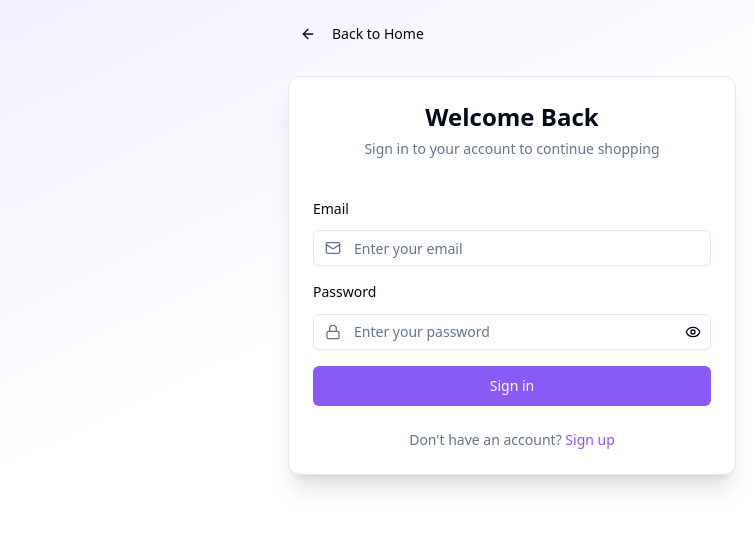
Test case: RegisterForm › shows error message when login fails
Note: Use credentials that will trigger error
Type "wrong@example.com" into the field with placeholder "Enter your email" at (512, 248), box top-left (313, 230), bottom-right (711, 266)
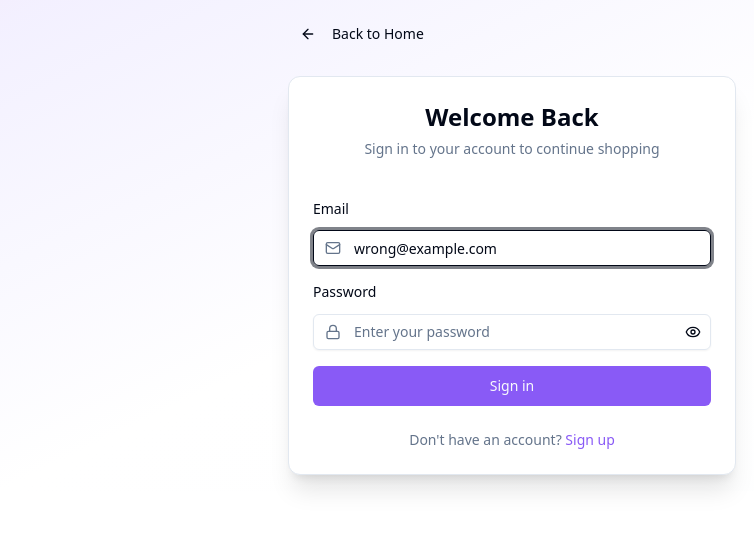
Type "password123" into the password field with placeholder "Enter your password" at (512, 332), box top-left (313, 314), bottom-right (711, 350)
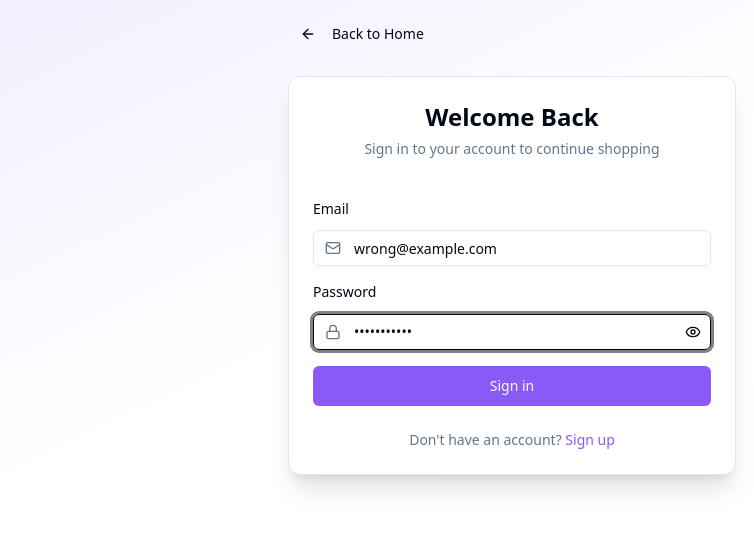
Note: Submit form
Click the button "Sign in" at (512, 386), box top-left (313, 366), bottom-right (711, 406)
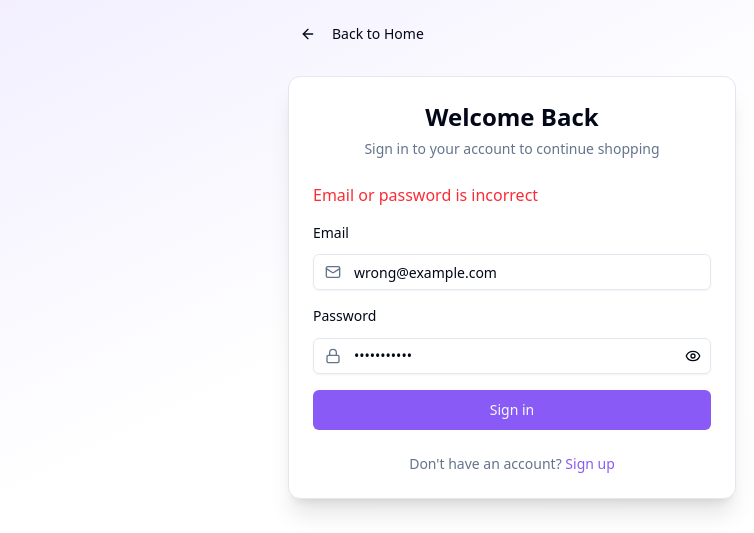
Now the text "Email or password is incorrect" is shown, box top-left (313, 184), bottom-right (538, 206)
